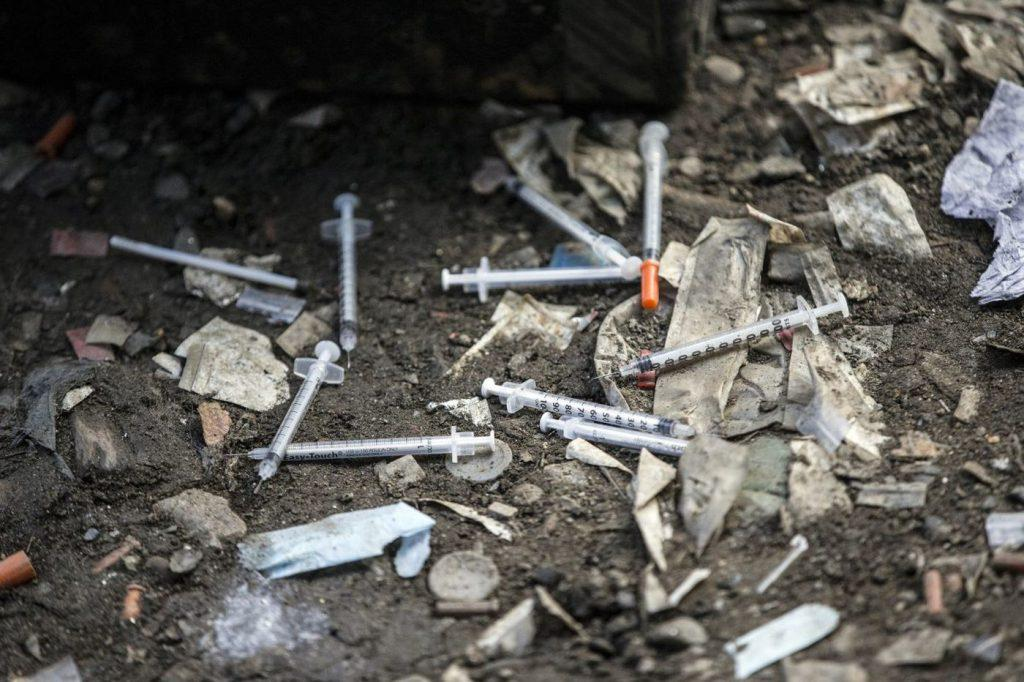Syringe: (605, 294, 848, 377), (255, 340, 343, 490), (505, 176, 638, 271), (481, 378, 694, 437), (109, 235, 299, 289), (441, 257, 639, 301), (321, 193, 371, 363), (284, 427, 494, 462), (540, 412, 687, 456), (638, 121, 668, 309)
